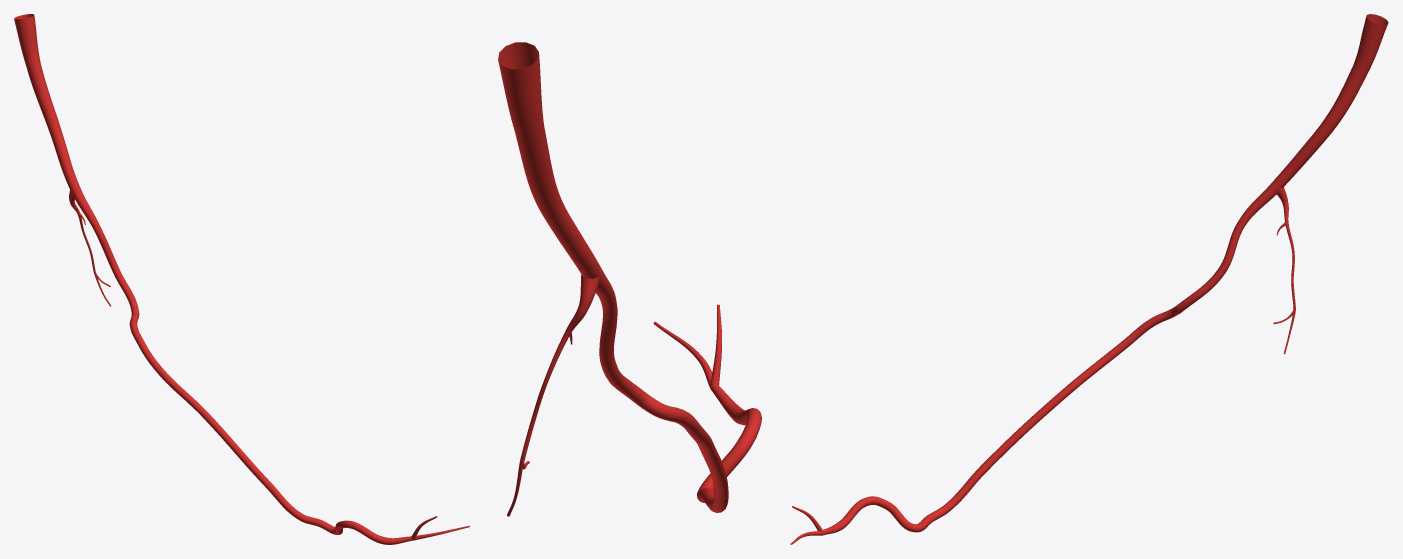
The model's file is circulatorio-inferior-alveolar-artery-r.glb.
3 views of the same model, side by side, from view 1: azimuth 30°, elevation 25°; view 2: azimuth 150°, elevation 25°; view 3: azimuth 270°, elevation 25° (orthographic). The views are drawn at different scales.
Visible parts, largest first — view 1: Inferior alveolar artery.r; view 2: Inferior alveolar artery.r, Mylohyoid branch of inferior alveolar artery.r, Mental branch of inferior alveolar artery.r; view 3: Inferior alveolar artery.r, Mylohyoid branch of inferior alveolar artery.r.
Boxes of the visible parts, <box> form: Inferior alveolar artery.r: <box>14,14,412,544</box>; Inferior alveolar artery.r: <box>498,42,761,512</box>; Mylohyoid branch of inferior alveolar artery.r: <box>507,274,600,516</box>; Mental branch of inferior alveolar artery.r: <box>653,304,721,388</box>; Inferior alveolar artery.r: <box>823,14,1388,534</box>; Mylohyoid branch of inferior alveolar artery.r: <box>1273,187,1295,354</box>.
Bounding box in the file's own units: 0.0307 × 0.0591 × 0.0704.
